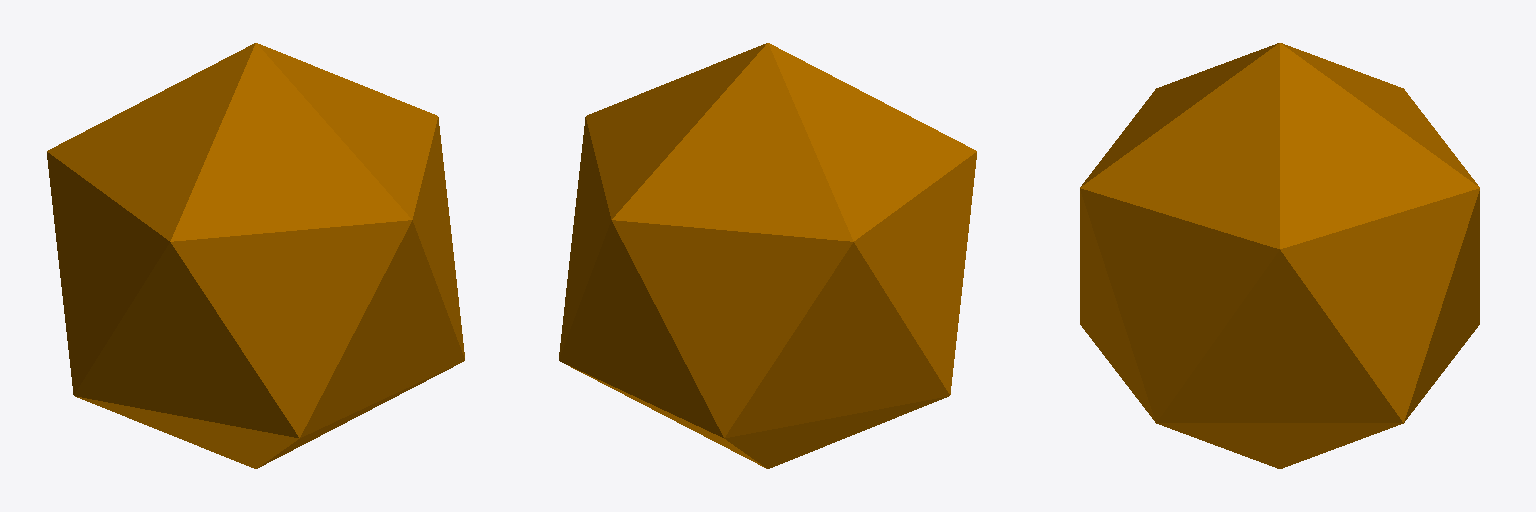
The model's file is BulletYellow.obj.
The picture shows the model from 3 angles: view 1: azimuth 30°, elevation 25°; view 2: azimuth 150°, elevation 25°; view 3: azimuth 270°, elevation 25°; orthographic projection.
Parts seen in each view (by area): view 1: Icosphere; view 2: Icosphere; view 3: Icosphere.
Part boxes in pixels (x1,y1,x2,y2): Icosphere: (47, 43, 464, 468); Icosphere: (559, 43, 976, 468); Icosphere: (1080, 43, 1479, 468).
Bounding box in the file's own units: 0.1431 × 0.16 × 0.1361.